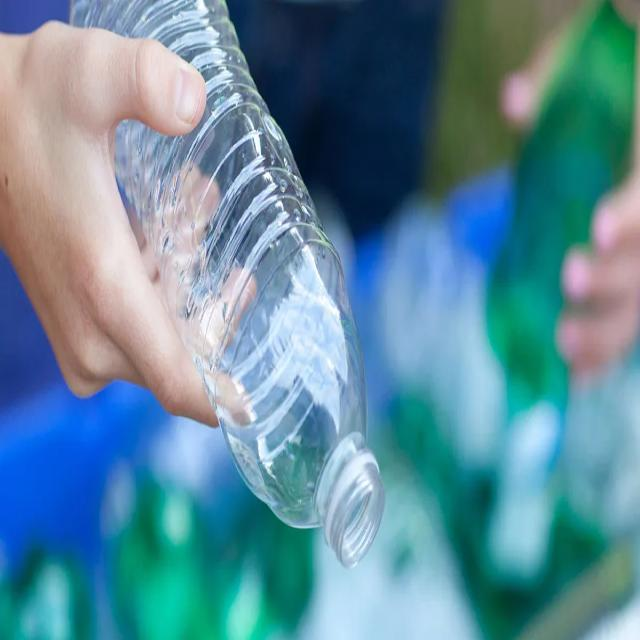plastic: (70, 0, 383, 577)
